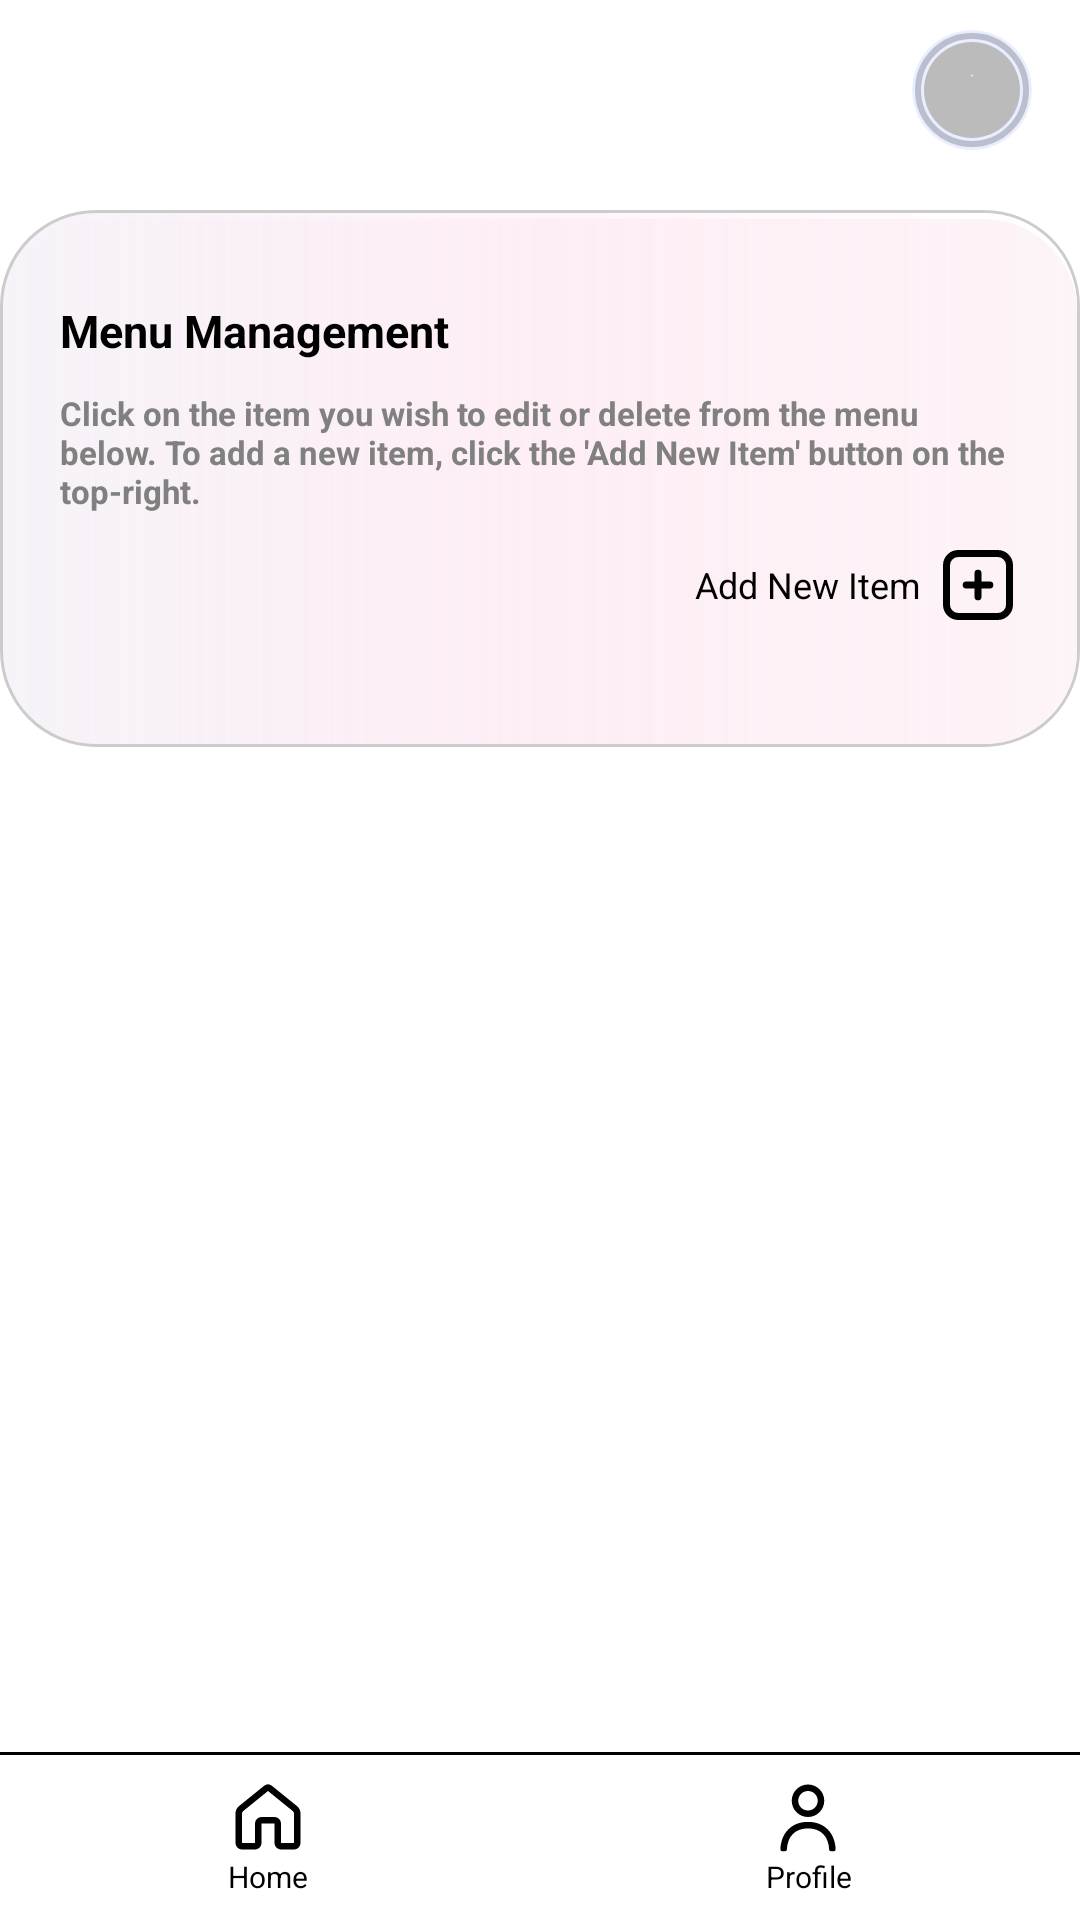

Named icons in this screenshot (1080 × 1920) and their bounding boxes, (x1, y1, x2, y2):
add square: (943, 550, 1013, 620)
